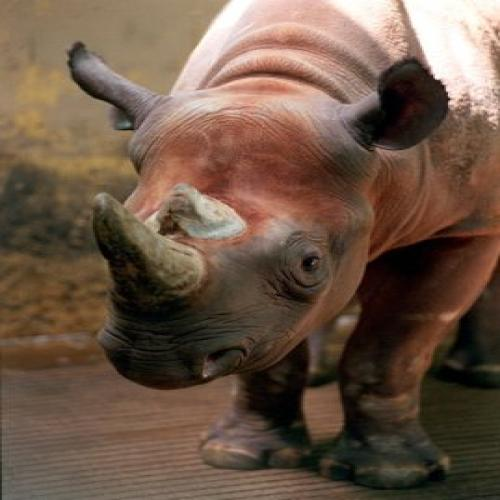rhino-endangered: (68, 4, 500, 485)
